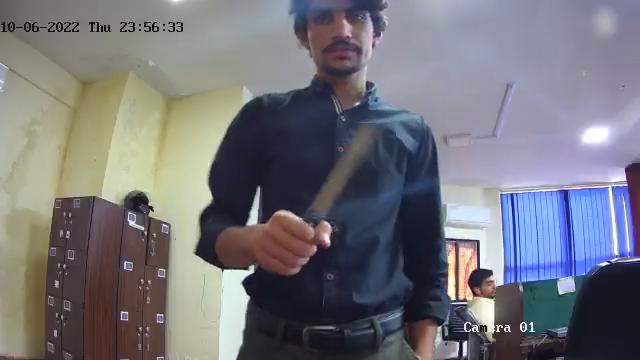knives: (263, 124, 389, 275)
